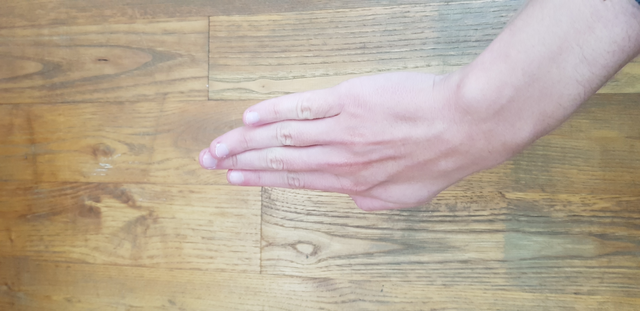Paper: (176, 67, 507, 220)
